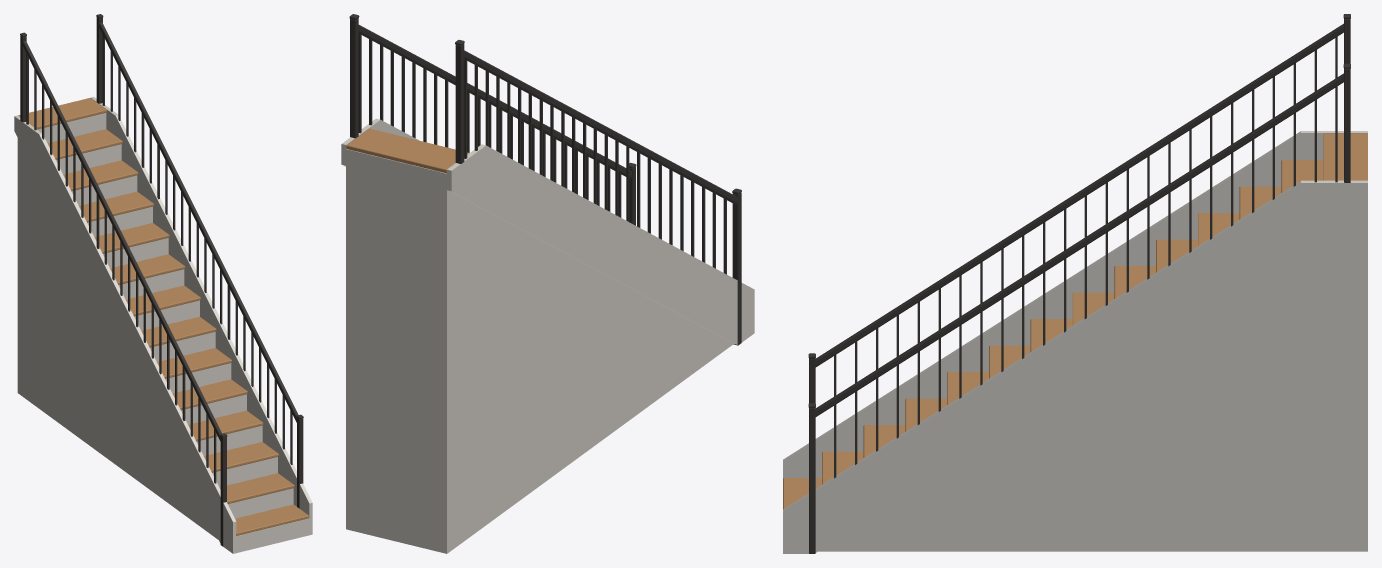
The model's file is stairs.glb.
3 renders of one model, left to right at view 1: azimuth 30°, elevation 25°; view 2: azimuth 150°, elevation 25°; view 3: azimuth 270°, elevation 25°, orthographic. The views are drawn at different scales.
Parts seen in each view (by area): view 1: stairs; view 2: stairs; view 3: stairs.
Part boxes in pixels (box(x1,y1,x2,y2)): stairs: box(14, 14, 312, 553); stairs: box(341, 14, 754, 553); stairs: box(783, 14, 1367, 553).
Bounding box in the file's own units: 0.855 × 3.68 × 4.
